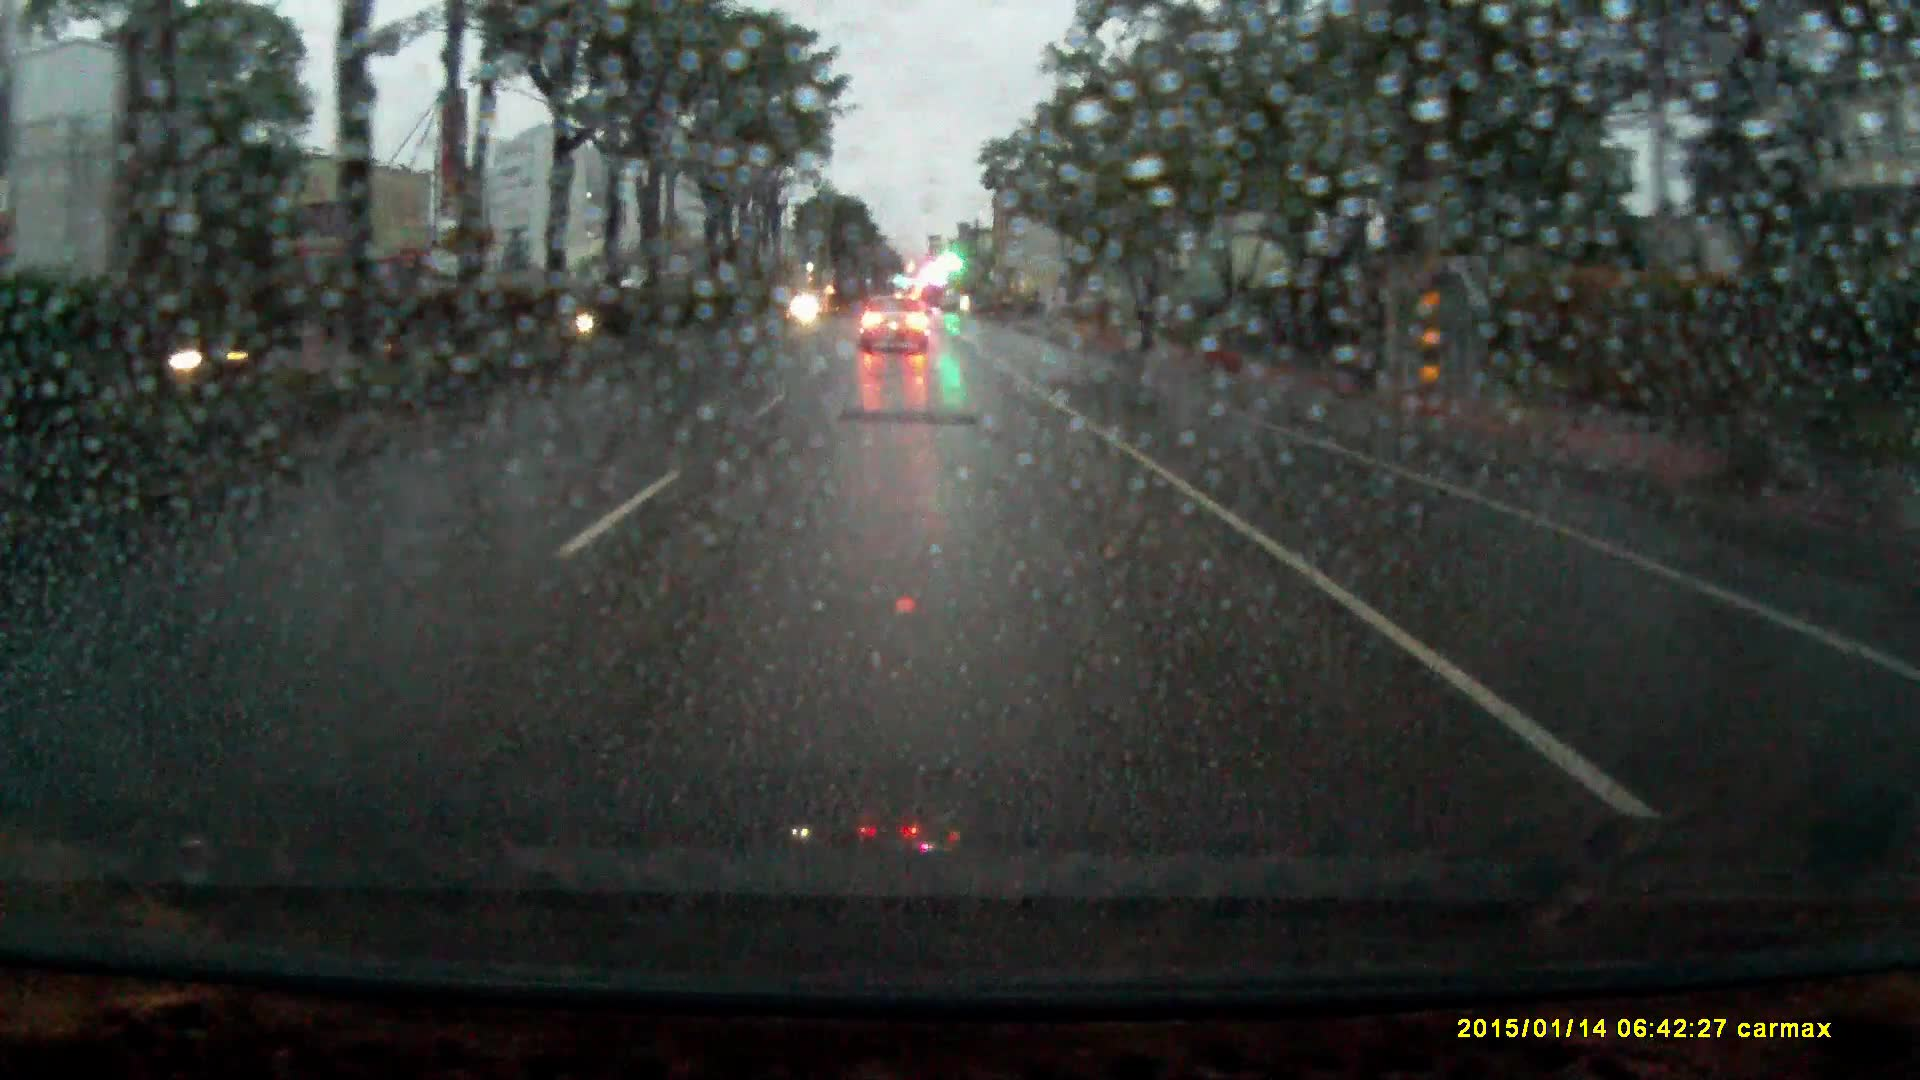vehicle: (860, 285, 930, 345)
